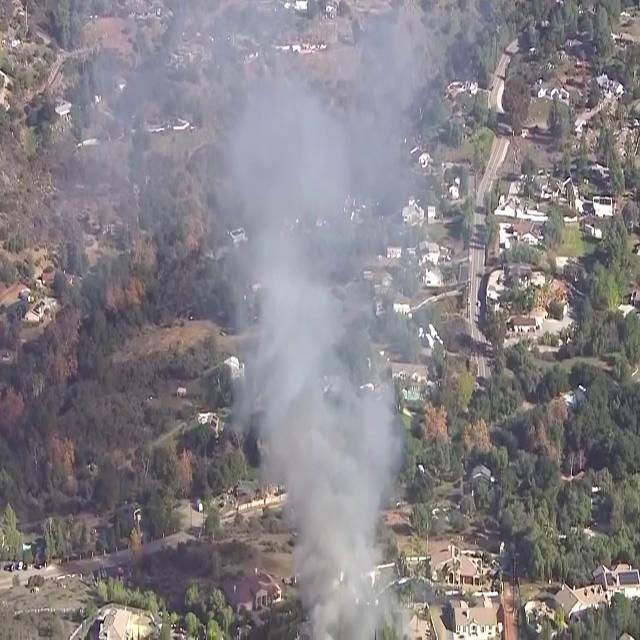Smoke: (164, 2, 430, 634)
